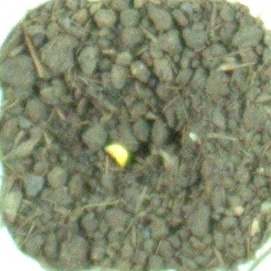chilli seed: (99, 142, 134, 170)
